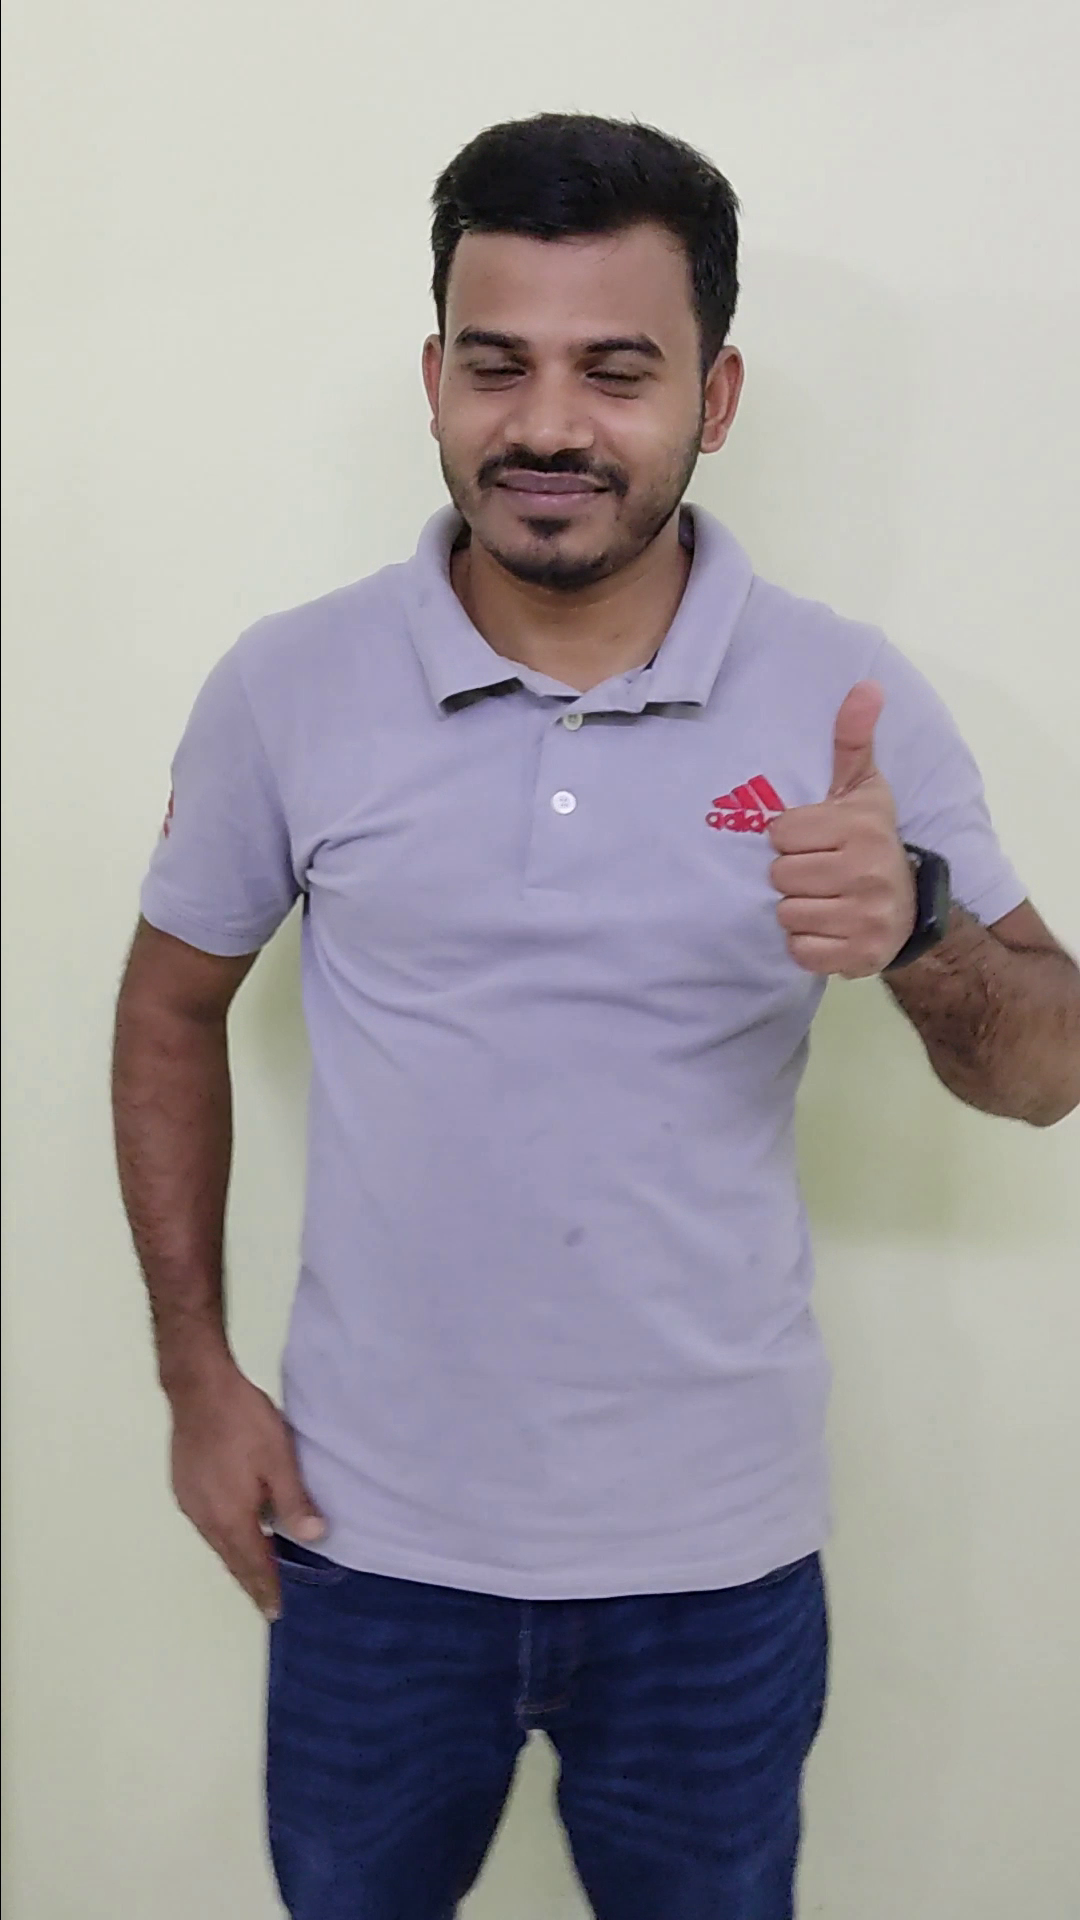Like: (727, 665, 942, 993)
None: (138, 1338, 345, 1633)
